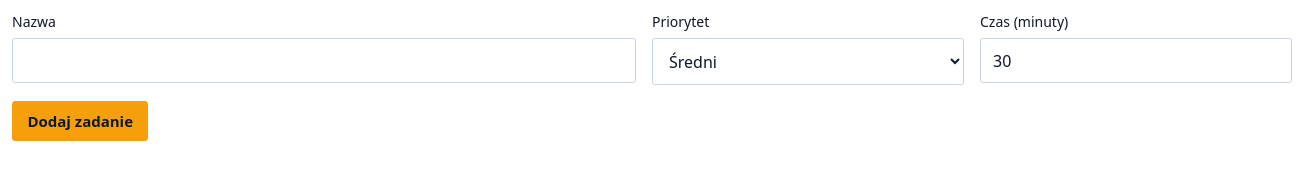
Test: TaskForm › submits trimmed valid data and resets the add form
This screenshot has width=1304, height=172.
In the field labelled "Nazwa": (324, 61) [12, 38, 636, 83], type "  Przygotować prezentację  "
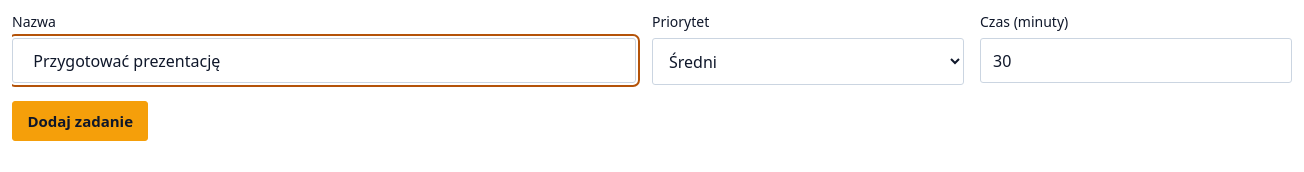
Select "Wysoki" in the dropdown labelled "Priorytet": (808, 62) [652, 38, 964, 85]
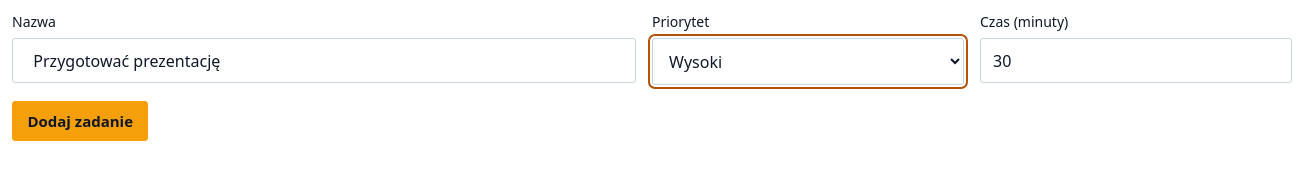
Replace the text in the number field labelled "Czas (minuty)" with "120": (1136, 61) [980, 38, 1292, 83]
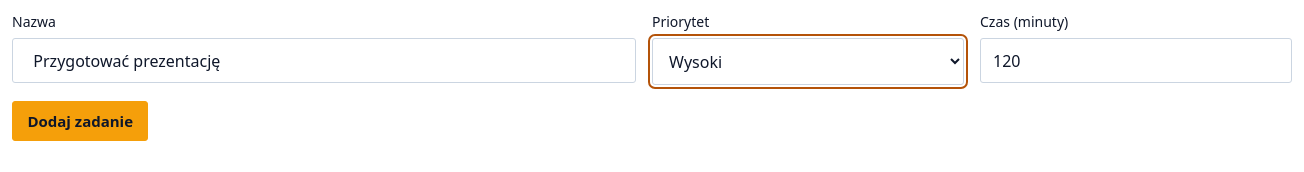
Click the button "Dodaj zadanie": (80, 121) [12, 101, 148, 141]
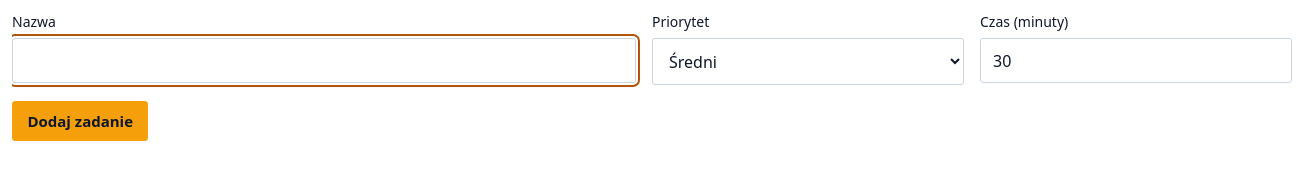
Result: the field labelled "Nazwa" is empty at [12, 38, 636, 83]
Result: the number field labelled "Czas (minuty)" holds "30" at [980, 38, 1292, 83]
